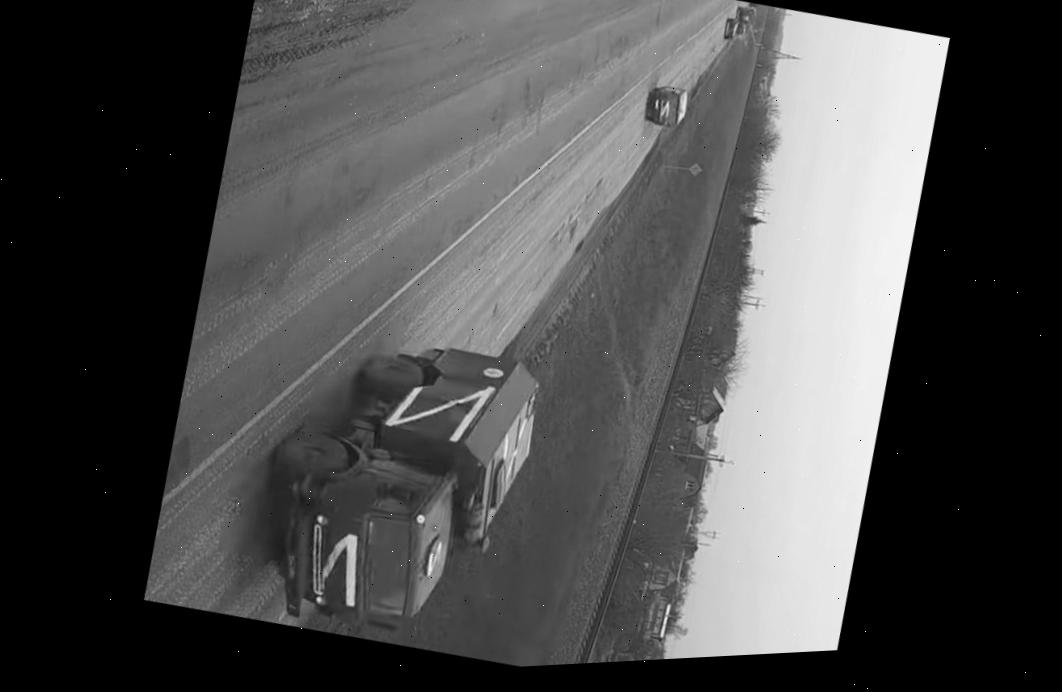car: (635, 68, 693, 132)
tank: (719, 10, 752, 47)
truck: (219, 294, 564, 674)
